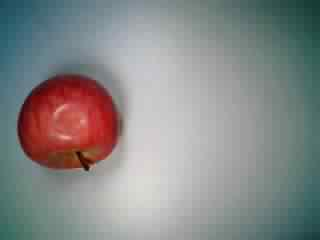apple: (16, 69, 119, 173)
